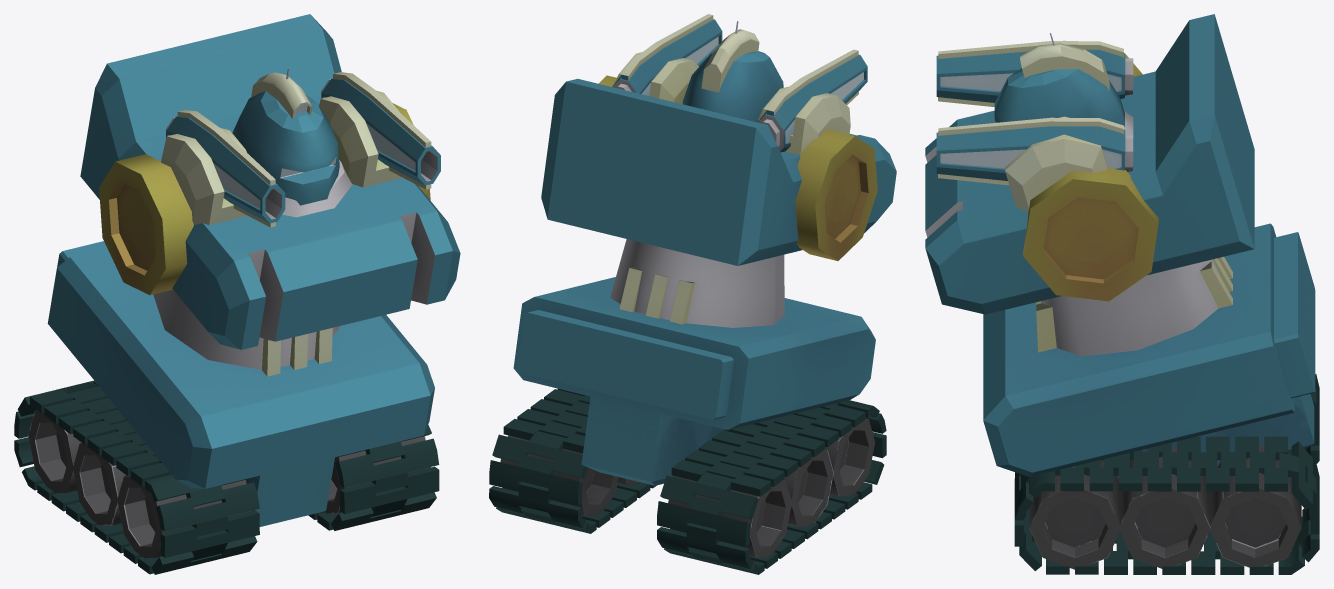
File: player_move0.obj
3 renders of one model, left to right at view 1: azimuth 30°, elevation 25°; view 2: azimuth 150°, elevation 25°; view 3: azimuth 270°, elevation 25°, orthographic. The views are drawn at different scales.
Visible parts, largest first — view 1: Object004, Box038, Object012, Object011, Box042; view 2: Object004, Box038, Box042, Object011, Object012; view 3: Object004, Object011, Box042, Object012, Box038.
Boxes of the visible parts, x1=… form: Object004: x1=47, y1=14, x2=460, y2=526; Box038: x1=14, y1=380, x2=259, y2=574; Object012: x1=166, y1=72, x2=440, y2=227; Object011: x1=28, y1=410, x2=430, y2=558; Box042: x1=308, y1=425, x2=439, y2=530; Object004: x1=513, y1=29, x2=896, y2=485; Box038: x1=657, y1=399, x2=886, y2=574; Box042: x1=489, y1=388, x2=656, y2=533; Object011: x1=500, y1=419, x2=875, y2=557; Object012: x1=612, y1=14, x2=867, y2=152; Object004: x1=925, y1=14, x2=1315, y2=478; Object011: x1=1029, y1=445, x2=1301, y2=569; Box042: x1=1014, y1=436, x2=1319, y2=574; Object012: x1=936, y1=41, x2=1133, y2=185; Box038: x1=1305, y1=374, x2=1319, y2=464.
Bounding box in the file's own units: 110 × 180 × 135.
Materials: 3 (1 with a texture image).
